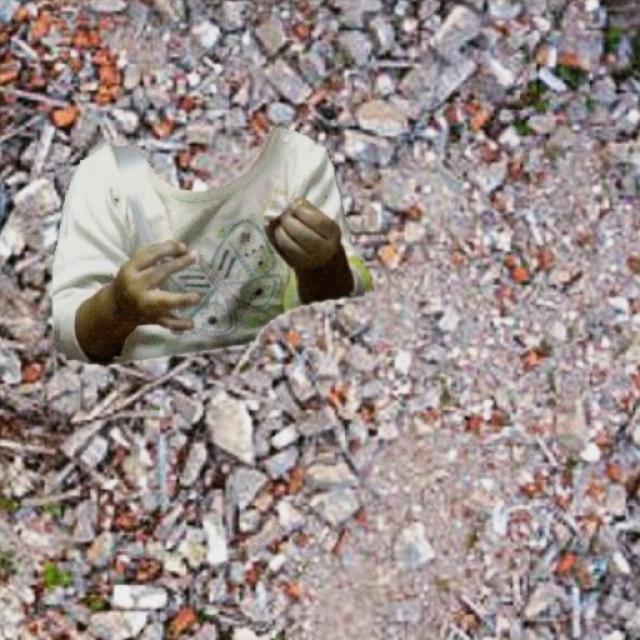Person in Rubble: (52, 126, 372, 365)
